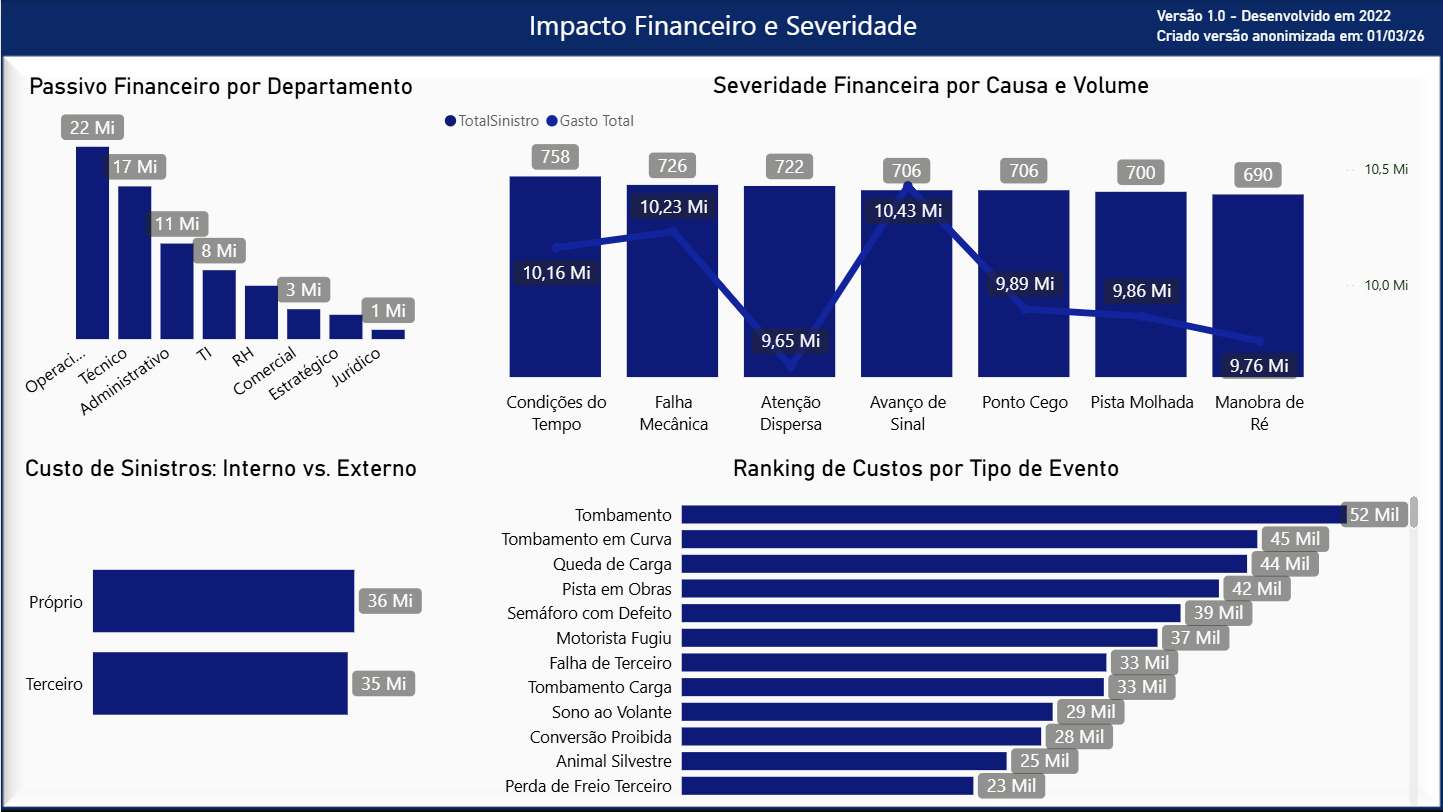

The page's visual inventory and layout, read from the dashboard file:
{"tool":"powerbi","page":{"name":"REL04","canvas":[1280,720],"ordinal":3},"visuals":[{"type":"lineStackedColumnComboChart","title":"Severidade Financeira por Causa e Volume","fields":{"Category":["base.Apuração"],"Y":["Medidas.TotalSinistro"],"Y2":["Medidas.Gasto Total"]},"box":[387.5,63.8,874.3,329.9],"z":0},{"type":"clusteredColumnChart","title":"Passivo Financeiro por Departamento","fields":{"Category":["dFuncionarios.Setor"],"Y":["Medidas.Gasto Total"]},"box":[11.5,64.7,367.1,329],"z":1000},{"type":"clusteredBarChart","title":"Custo de Sinistros: Interno vs. Externo","fields":{"Y":["Medidas.Gasto Total"],"Category":["fOcorrencias.Culpado"]},"box":[11.5,403.4,367.1,304.1],"z":2000},{"type":"textbox","box":[0,0,1280.4,50.5],"z":3000},{"type":"clusteredBarChart","title":"Ranking de Custos por Tipo de Evento","fields":{"Category":["base.Apuração"],"Y":["base.GastoPorSinistro"]},"box":[378.6,403.4,883.2,316.6],"z":5000},{"type":"textbox","box":[1019.4,0,260.6,56.2],"z":5001}]}

Visuals, with their boxes in screenshot pixels (x1, y1, x2, y2), scaled from the page's 1280x720 canvas onto the 1443x812 screenshot:
"Severidade Financeira por Causa e Volume" lineStackedColumnComboChart: rect(437, 72, 1422, 444)
"Passivo Financeiro por Departamento" clusteredColumnChart: rect(13, 73, 427, 444)
"Custo de Sinistros: Interno vs. Externo" clusteredBarChart: rect(13, 455, 427, 798)
textbox: rect(0, 0, 1442, 57)
"Ranking de Custos por Tipo de Evento" clusteredBarChart: rect(427, 455, 1422, 811)
textbox: rect(1149, 0, 1442, 63)
